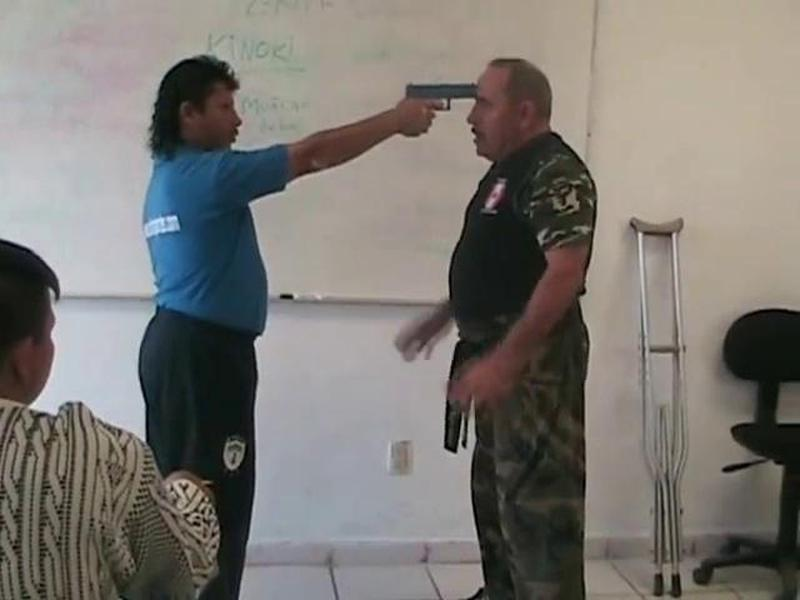Pistola: (391, 65, 479, 137)
